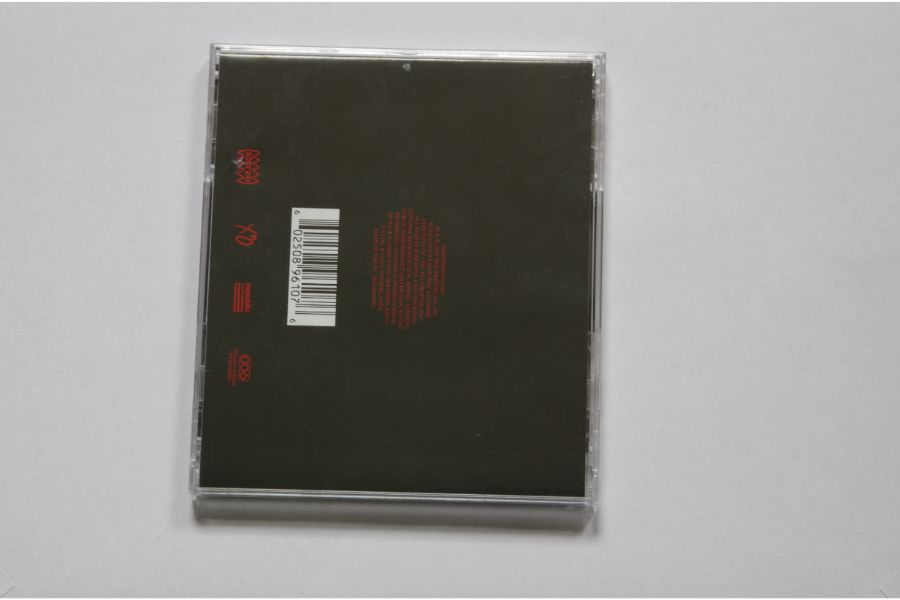album: (186, 40, 601, 508)
